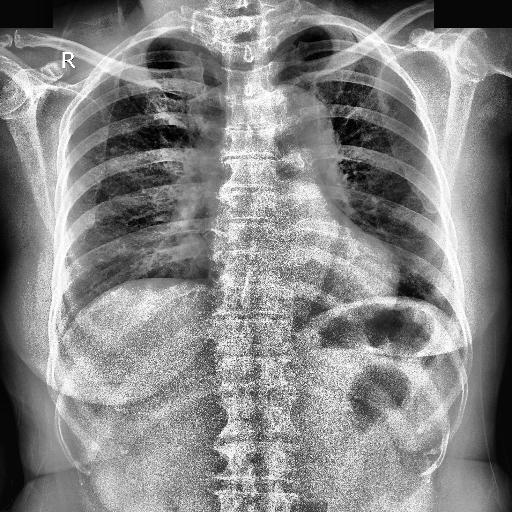0- Aortic enlargement: (260, 85, 336, 175), (247, 86, 334, 158), (260, 88, 338, 155)
